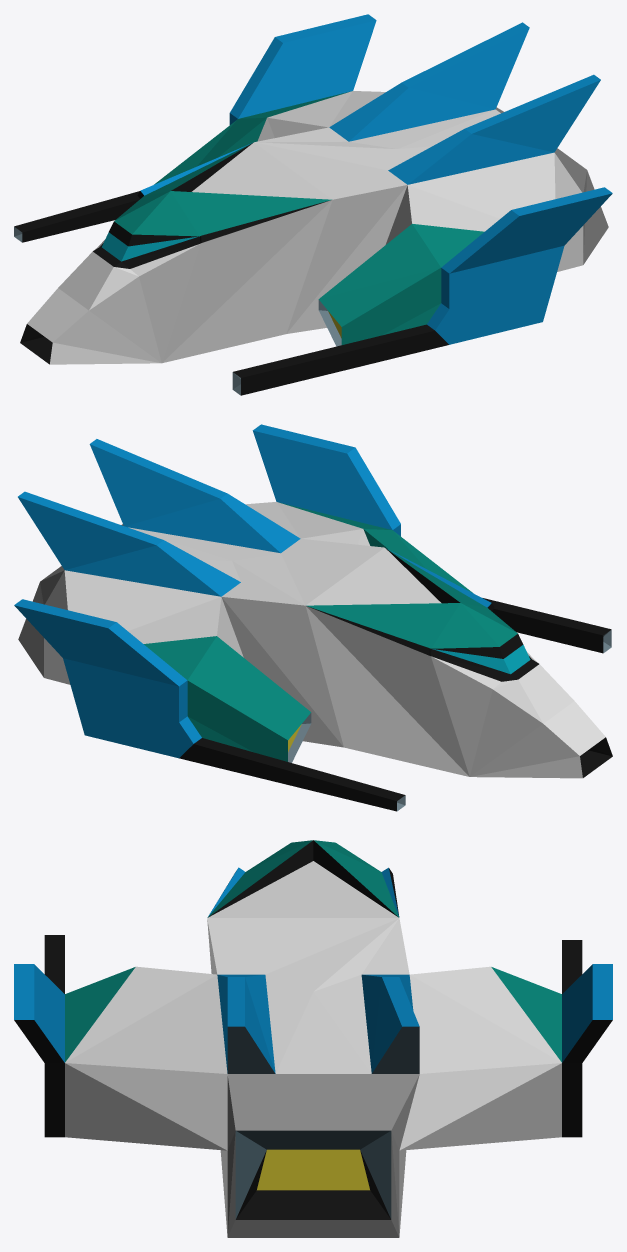
The picture shows the model from 3 angles, top to bottom: view 1: azimuth 30°, elevation 25°; view 2: azimuth 150°, elevation 25°; view 3: azimuth 270°, elevation 25°; orthographic projection. The views are drawn at different scales.
Visible parts, largest first — view 1: node_MeshObject1850054656-PolyPaper21; view 2: node_MeshObject1850054656-PolyPaper21; view 3: node_MeshObject1850054656-PolyPaper21.
Boxes of the visible parts, <box> form: node_MeshObject1850054656-PolyPaper21: <box>14,14,612,395</box>; node_MeshObject1850054656-PolyPaper21: <box>14,424,612,811</box>; node_MeshObject1850054656-PolyPaper21: <box>14,840,612,1237</box>.
Size of the model in its own units: 0.7537 by 0.2504 by 0.5891.
